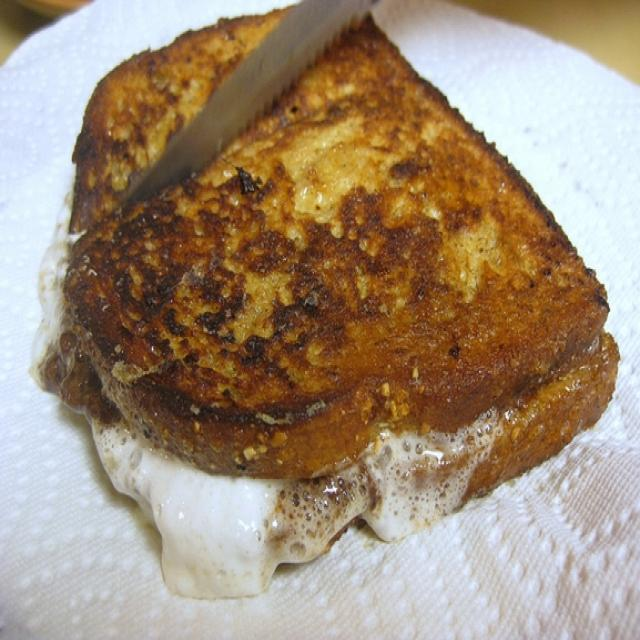面包点心: (8, 7, 631, 612)
